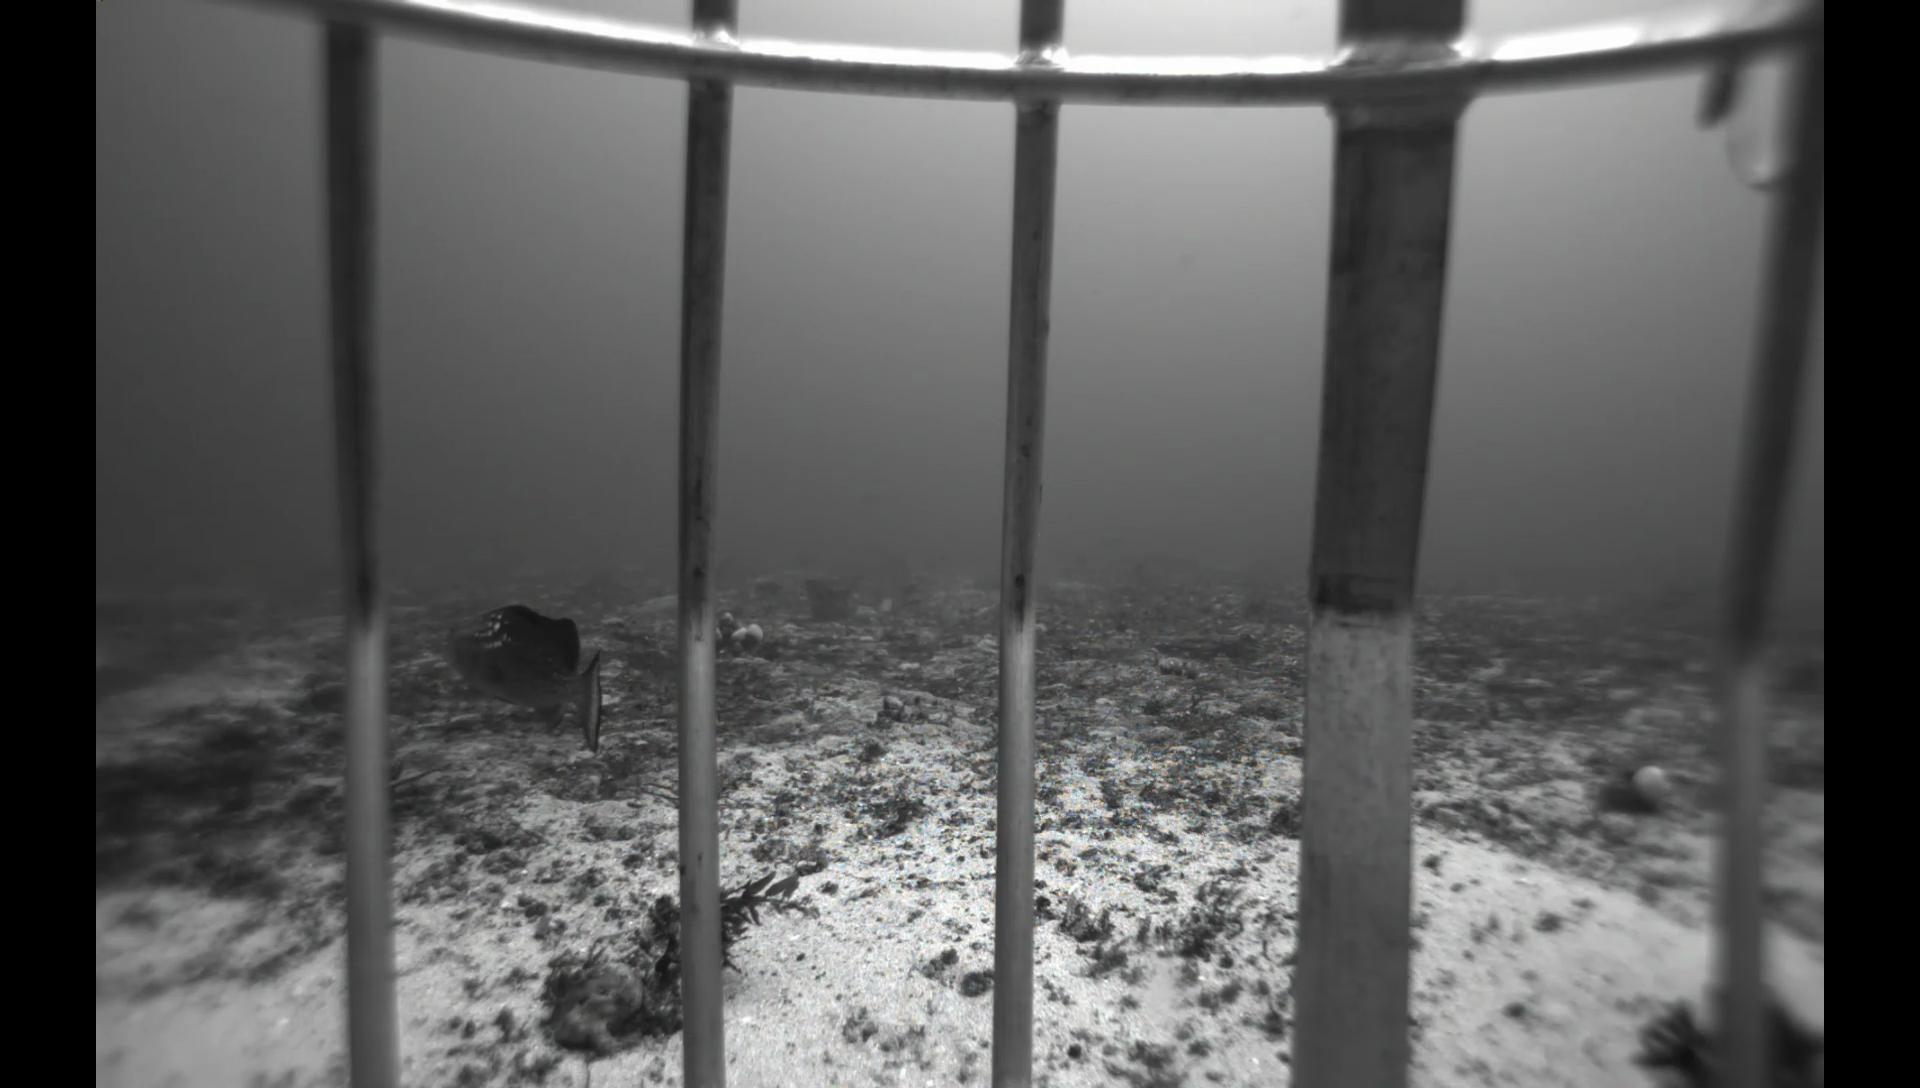CHAETODONOCELLATUS-170260307: (1060, 582, 1098, 615), (865, 593, 898, 616)
EPINEPHELUSMORIO-170021211: (435, 595, 622, 762)
PRISTIGENYSALTA-170050401: (298, 679, 345, 717)
